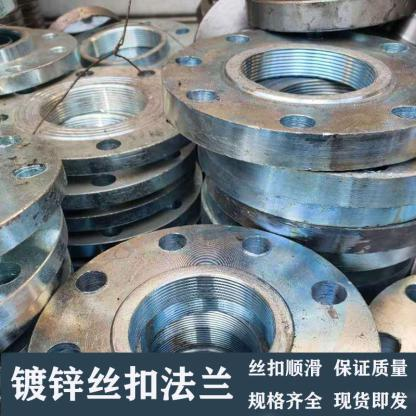FOD: (22, 220, 382, 359), (159, 20, 416, 160)
